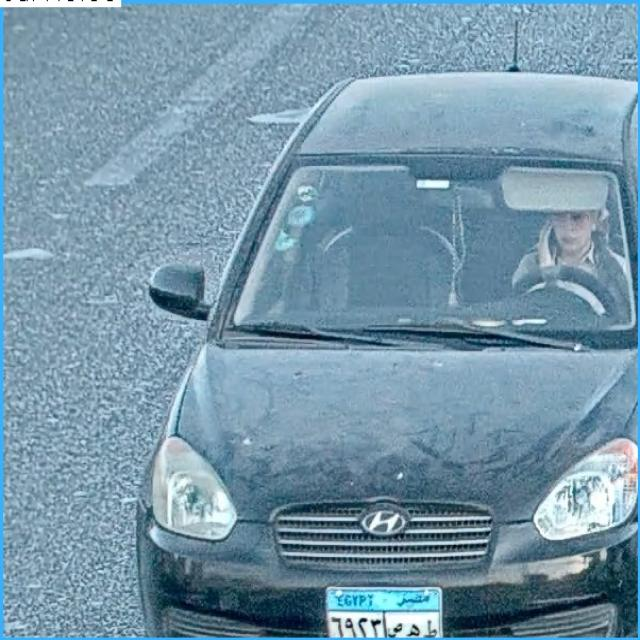windshield: (224, 158, 635, 339)
